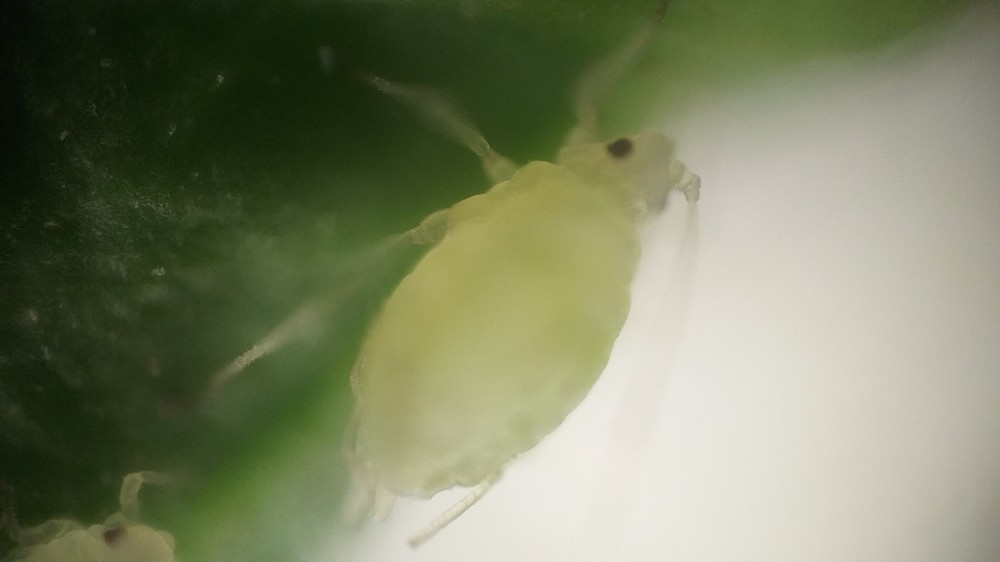Pulgon: (271, 13, 711, 559)
